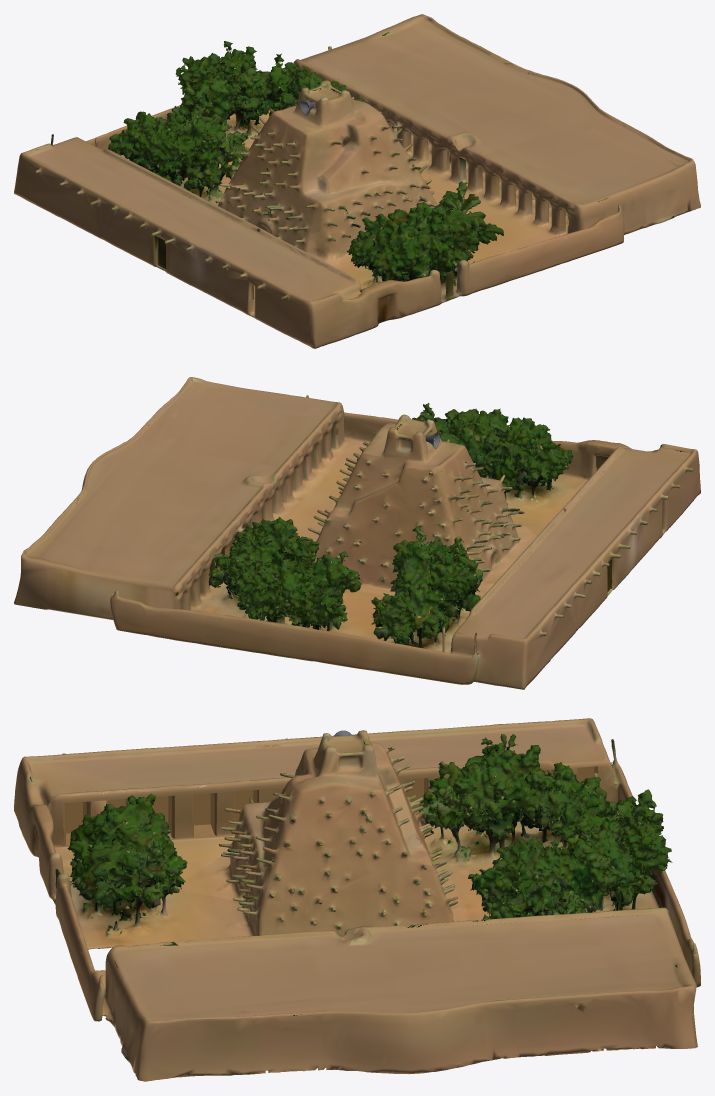
Rendered from Tombeaux_des_Askia.glb.
The picture shows the model from 3 angles, top to bottom: view 1: azimuth 30°, elevation 25°; view 2: azimuth 150°, elevation 25°; view 3: azimuth 270°, elevation 25°; orthographic projection. The views are drawn at different scales.
Parts seen in each view (by area): view 1: La_base, Espace_des_hommes, Tombeaux, Espace_des_femmes; view 2: La_base, Espace_des_hommes, Tombeaux, Espace_des_femmes; view 3: La_base, Espace_des_hommes, Tombeaux, Espace_des_femmes.
Boxes of the visible parts, x1,y1,x2,y2 form: La_base: (14,14,700,348); Espace_des_hommes: (309,20,688,204); Tombeaux: (215,80,437,261); Espace_des_femmes: (31,138,356,301); La_base: (14,377,700,689); Espace_des_hommes: (26,382,336,582); Tombeaux: (307,414,522,592); Espace_des_femmes: (456,448,690,638); La_base: (14,718,700,1081); Espace_des_hommes: (118,914,683,1021); Tombeaux: (219,730,458,936); Espace_des_femmes: (28,725,604,796).
Size of what is drawn, in the model's own units: 60.13 by 14.71 by 56.5.
2 materials, 2 textured.
